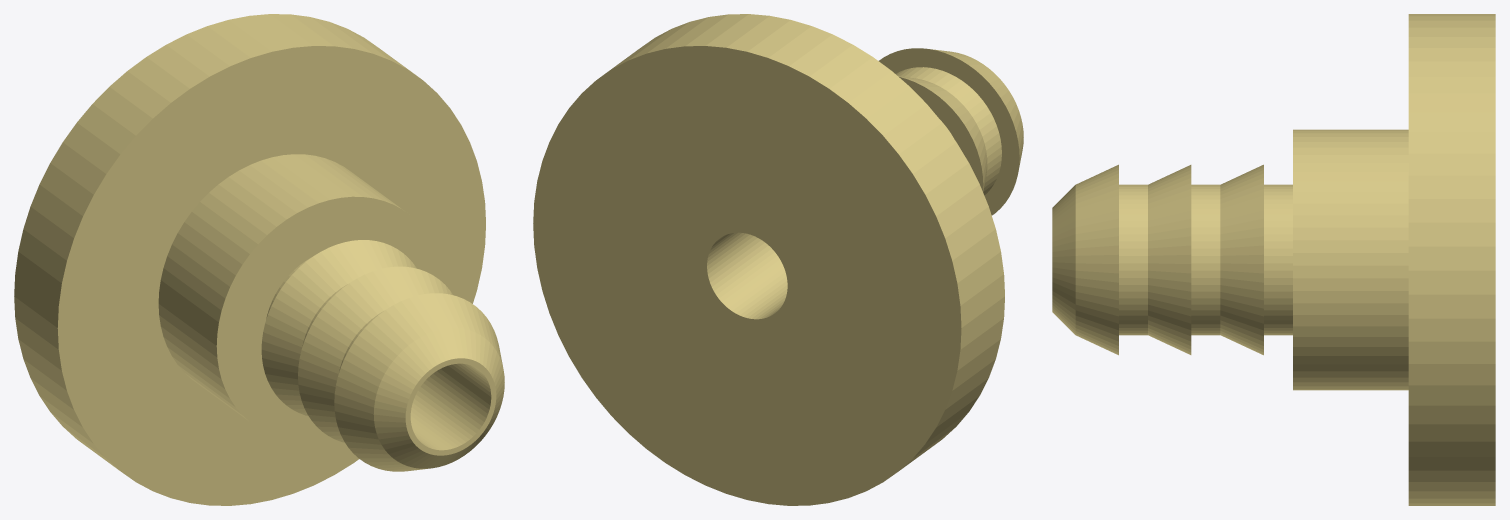
File: hose_barb_demo.glb
The picture shows the model from 3 angles, left to right: view 1: azimuth 30°, elevation 25°; view 2: azimuth 150°, elevation 25°; view 3: azimuth 270°, elevation 25°; orthographic projection.
Visible parts, largest first — view 1: hose_barb; view 2: hose_barb; view 3: hose_barb.
Part boxes in pixels (<box>): hose_barb: <box>14,14,504,505</box>; hose_barb: <box>533,14,1023,505</box>; hose_barb: <box>1052,14,1495,505</box>.
Bounding box in the file's own units: 17 × 17 × 15.3.
